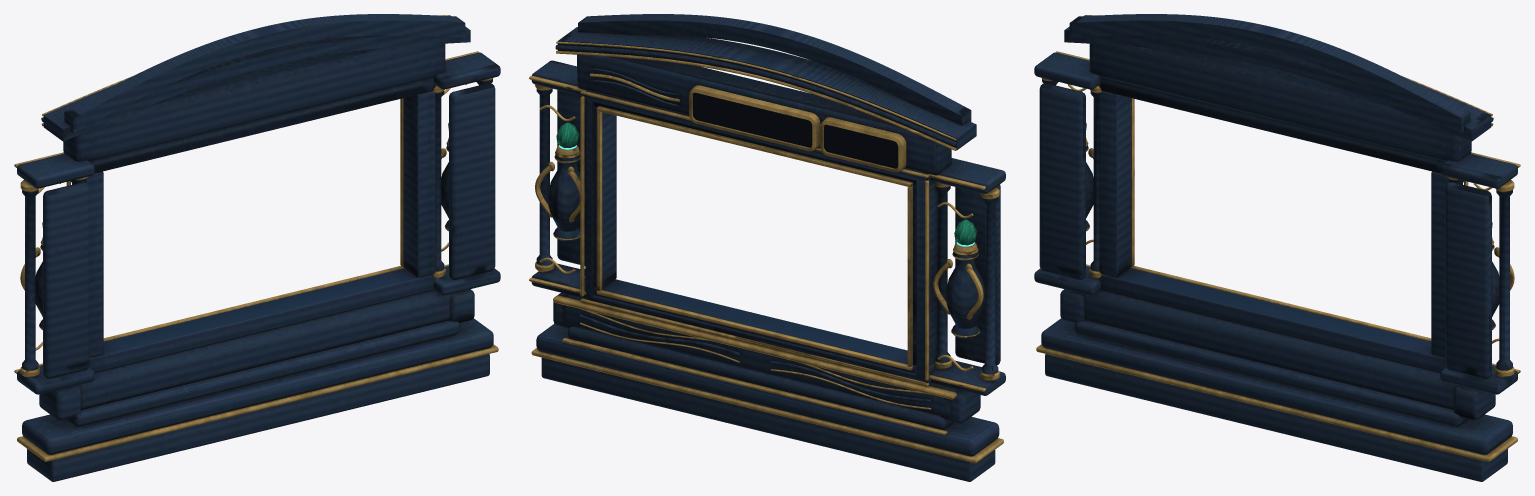
The picture shows the model from 3 angles, left to right: view 1: azimuth 30°, elevation 25°; view 2: azimuth 150°, elevation 25°; view 3: azimuth 330°, elevation 25°; orthographic projection.
Visible parts, largest first — view 1: Navy_wind_slate, Antique_gold; view 2: Navy_wind_slate, Antique_gold, Display_enamel, Emerald_mineral; view 3: Navy_wind_slate, Antique_gold.
Part boxes in pixels (x1,y1,x2,y2): Navy_wind_slate: (17,14,500,481); Antique_gold: (14,15,498,461); Navy_wind_slate: (531,14,1005,481); Antique_gold: (529,41,1003,463); Display_enamel: (693,92,898,168); Emerald_mineral: (556,122,976,245); Navy_wind_slate: (1034,14,1517,481); Antique_gold: (1036,15,1520,461).
Bounding box in the file's own units: 12.26 × 9.8 × 1.38.
Materials: 5 (4 with a texture image).
